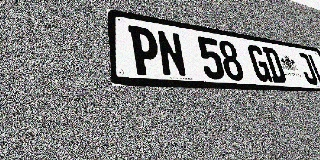5: (197, 36, 226, 80)
8: (217, 39, 245, 81)
D: (262, 47, 287, 83)
G: (246, 44, 273, 82)
J: (296, 52, 319, 85)
L: (307, 54, 320, 85)
N: (156, 29, 188, 78)
P: (128, 25, 162, 76)
